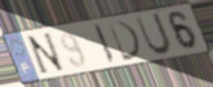6: (167, 9, 200, 52)
9: (59, 30, 88, 69)
D: (106, 19, 144, 63)
I: (92, 22, 118, 66)
N: (25, 31, 68, 77)
U: (133, 11, 175, 57)
